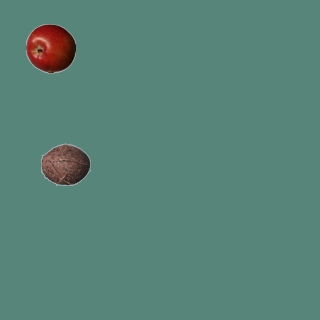Apple Braeburn: (25, 23, 75, 73)
Cocos: (40, 139, 90, 189)
